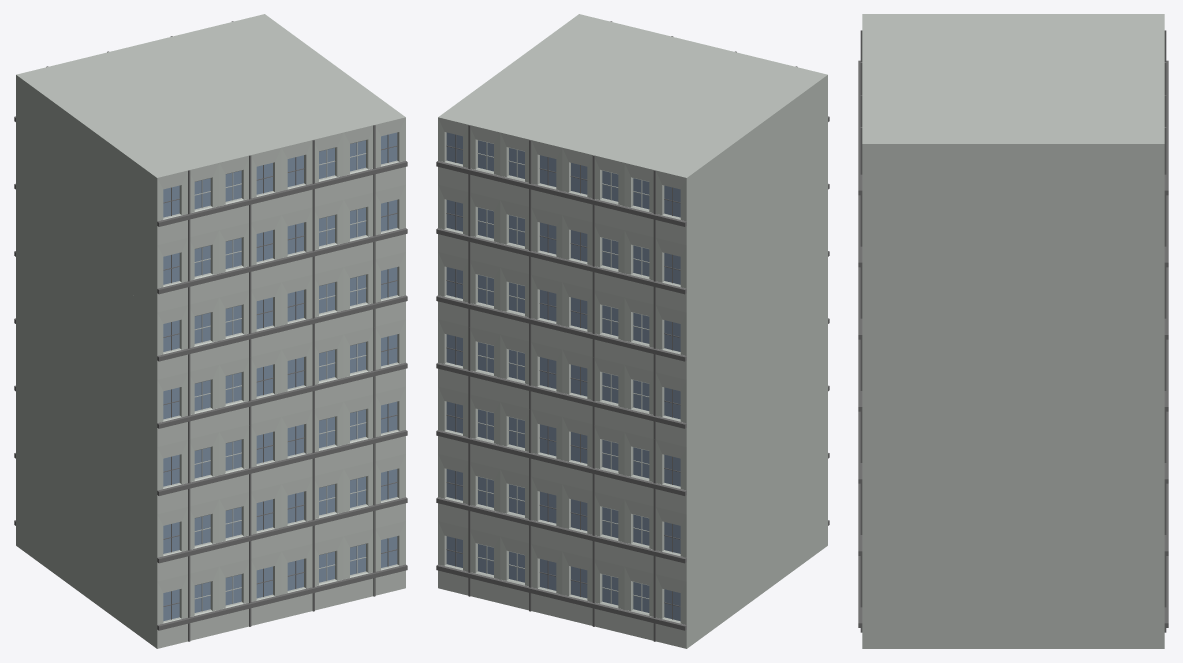
Rendered from Jackie.fbx.
The picture shows the model from 3 angles, left to right: view 1: azimuth 30°, elevation 25°; view 2: azimuth 150°, elevation 25°; view 3: azimuth 270°, elevation 25°; orthographic projection. The views are drawn at different scales.
Visible parts, largest first — view 1: Jakie; view 2: Jakie; view 3: Jakie.
Boxes of the visible parts, left/top/right/bottom form: Jakie: left=14, top=14, right=407, bottom=648; Jakie: left=436, top=14, right=829, bottom=648; Jakie: left=858, top=14, right=1168, bottom=648.
Bounding box in the file's own units: 343 × 620 × 345.
